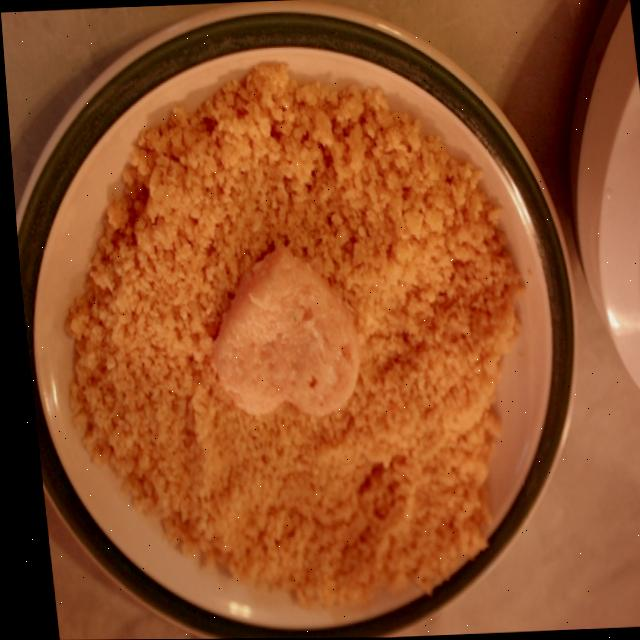鸡肉料理 含炸鸡: (0, 0, 617, 640)
